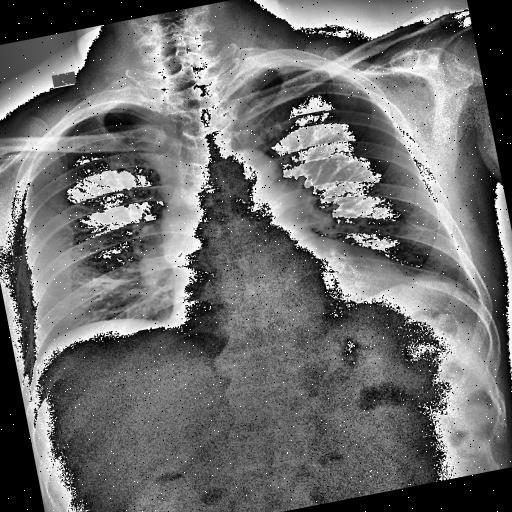0- Aortic enlargement: (144, 138, 313, 268), (210, 140, 296, 212), (216, 142, 286, 198)
3- Cardiomegaly: (162, 248, 418, 358), (160, 244, 417, 350), (162, 246, 404, 334)
